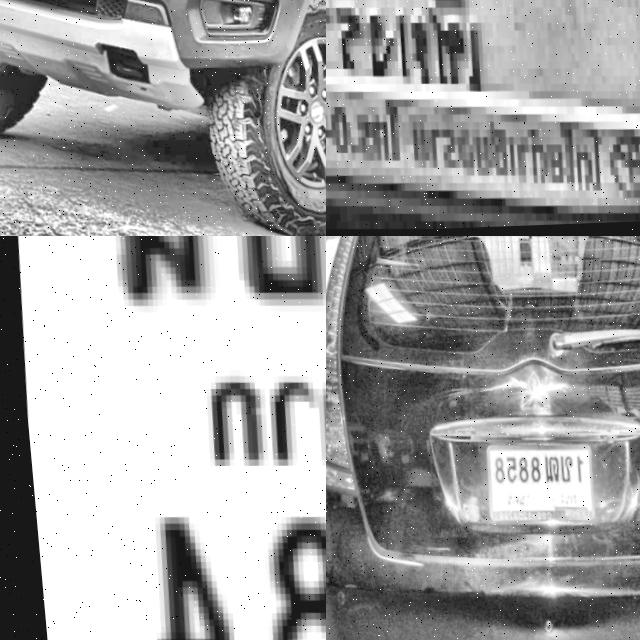license-plate: (0, 236, 326, 640), (326, 0, 640, 236), (474, 440, 591, 529)
